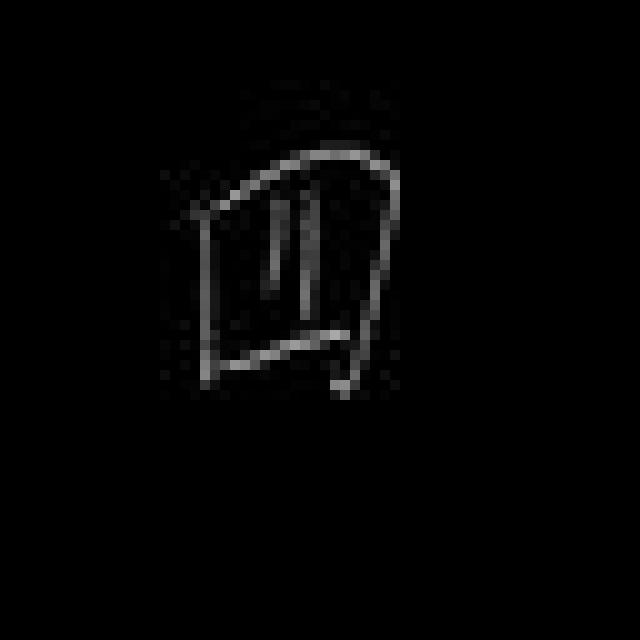4 -four-: (177, 132, 410, 412)
